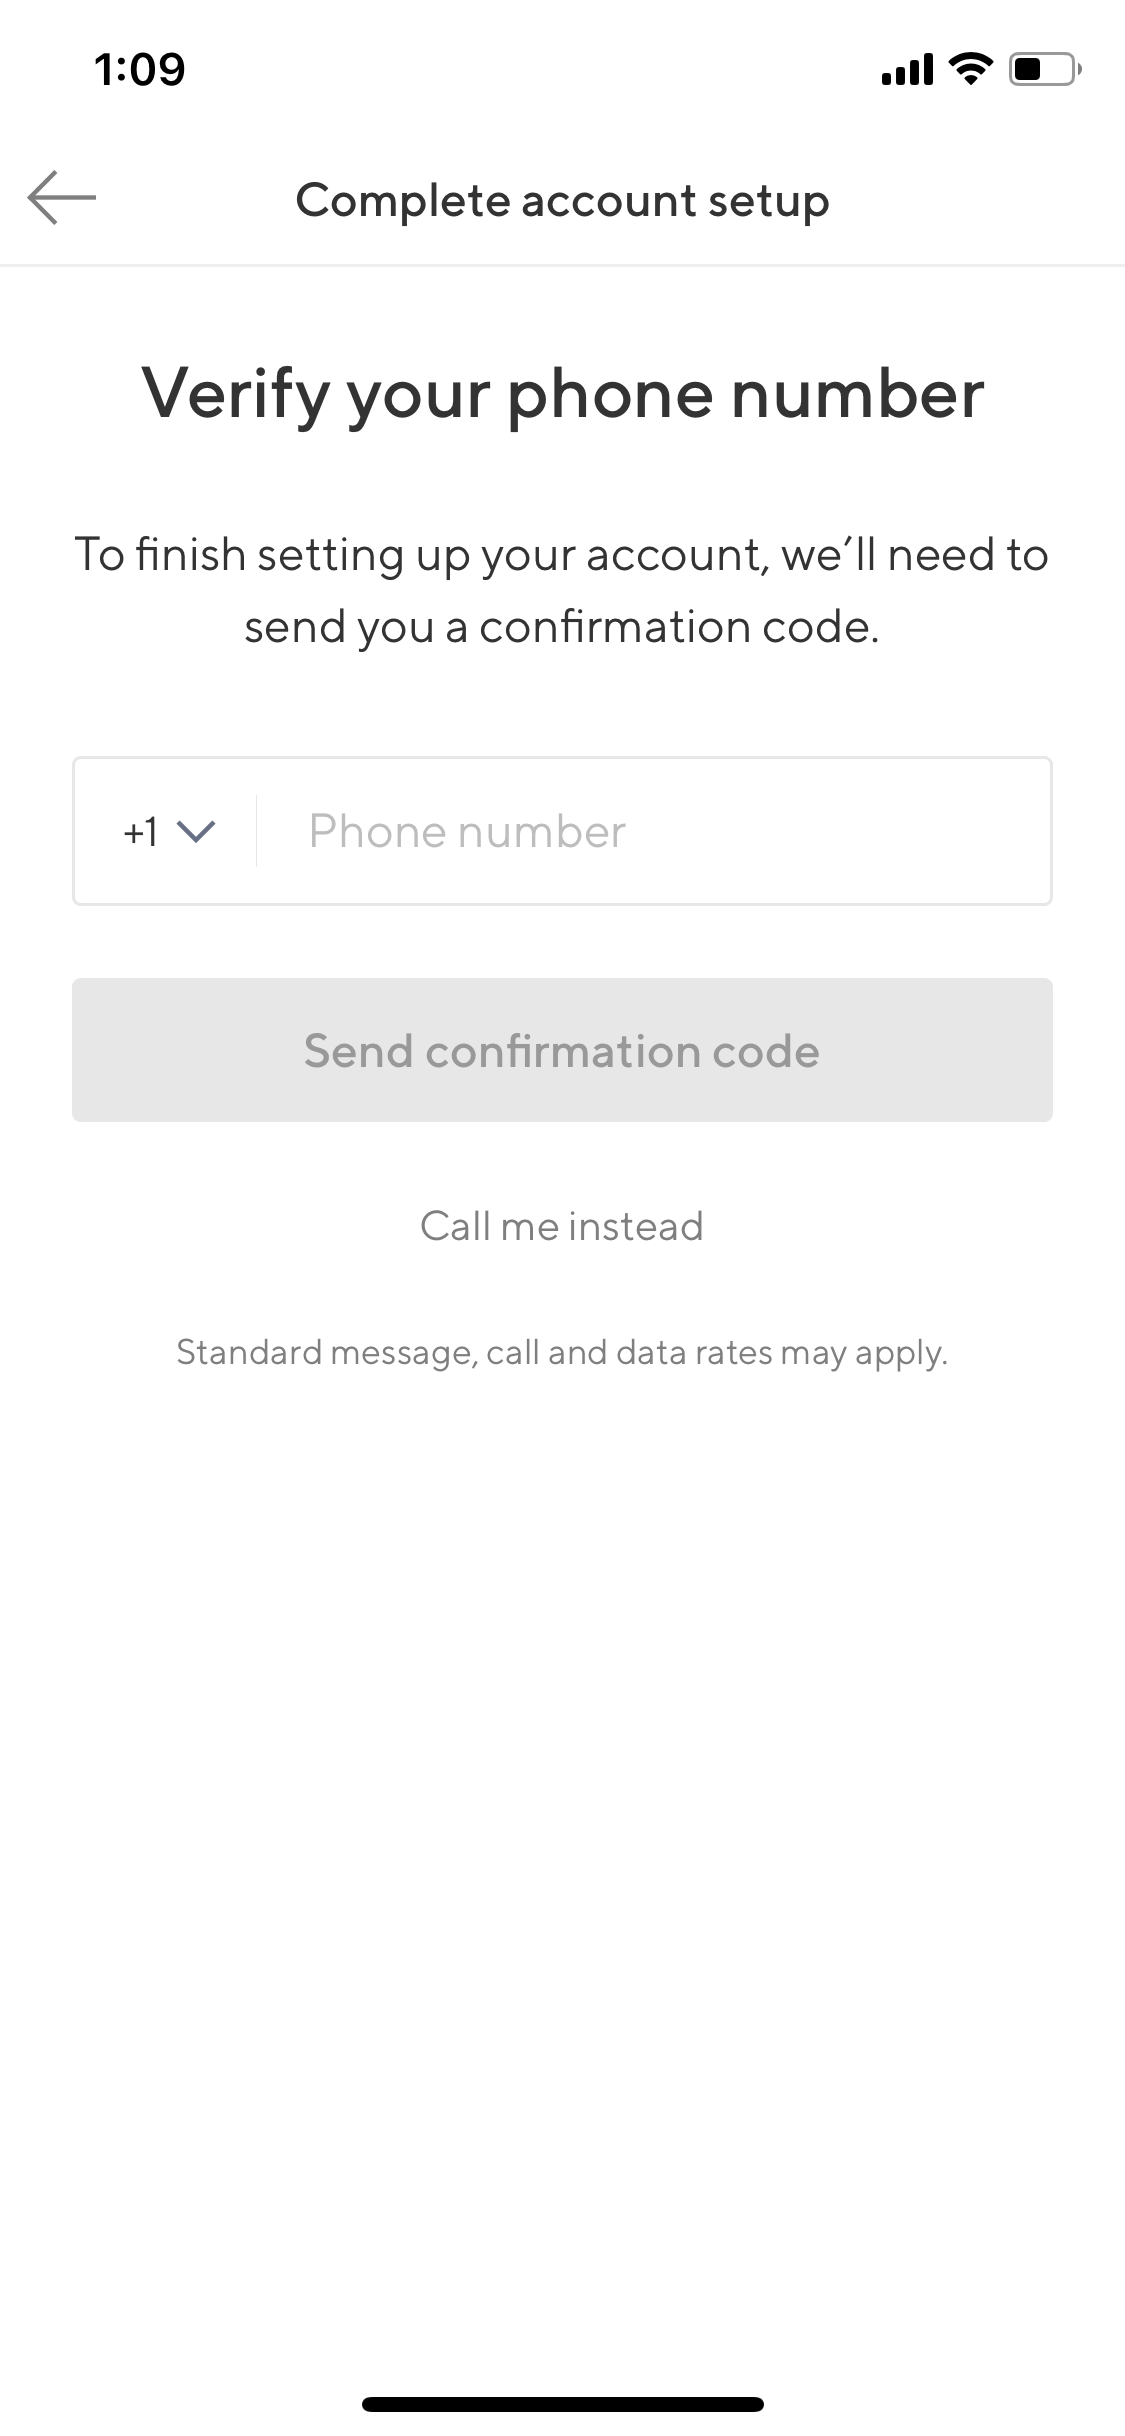Buttons: (61, 959, 1061, 1140), (382, 1161, 746, 1282), (12, 134, 106, 242)
Text Fields: (47, 739, 1075, 920)
